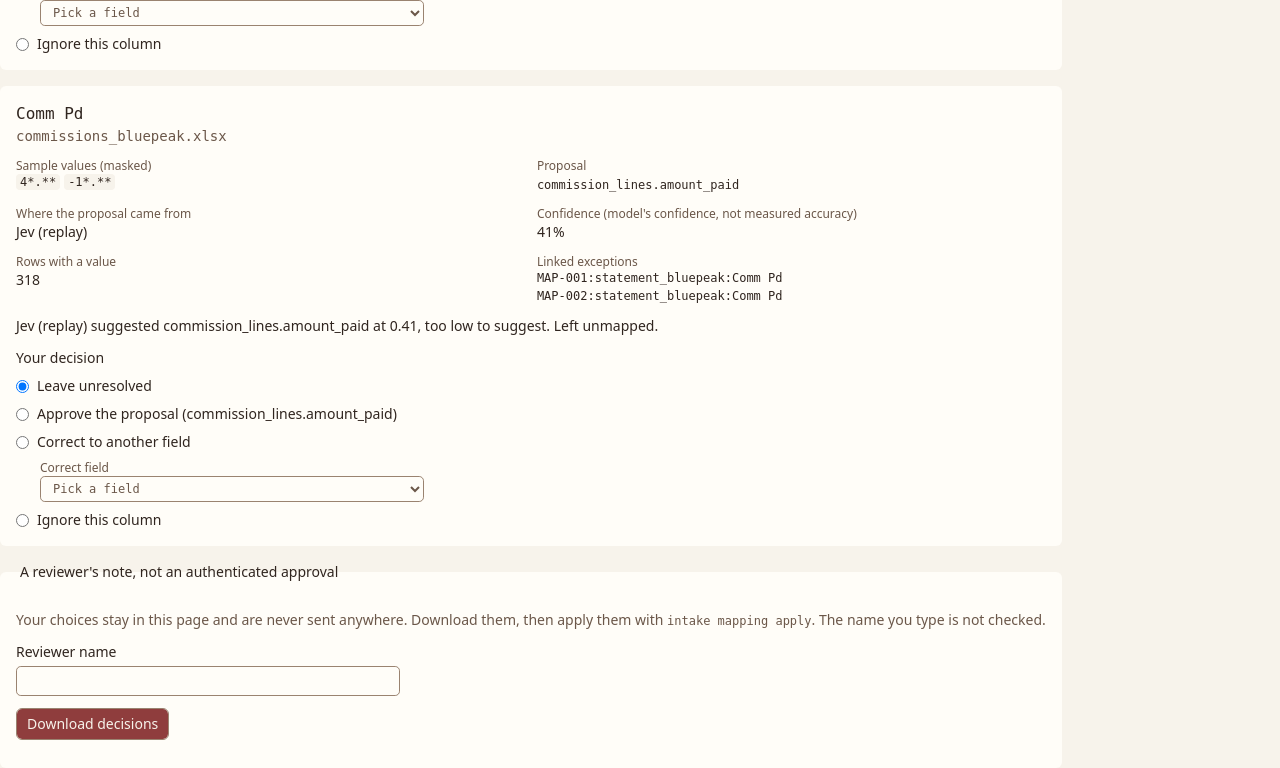
Test case: MappingReviewPanel › asks for at least one decision before downloading
The width and height of the screenshot is (1280, 768).
(page scrolled)
Type "Dana" into the field labelled "Reviewer name" at [208, 681], box [16,666,400,696]
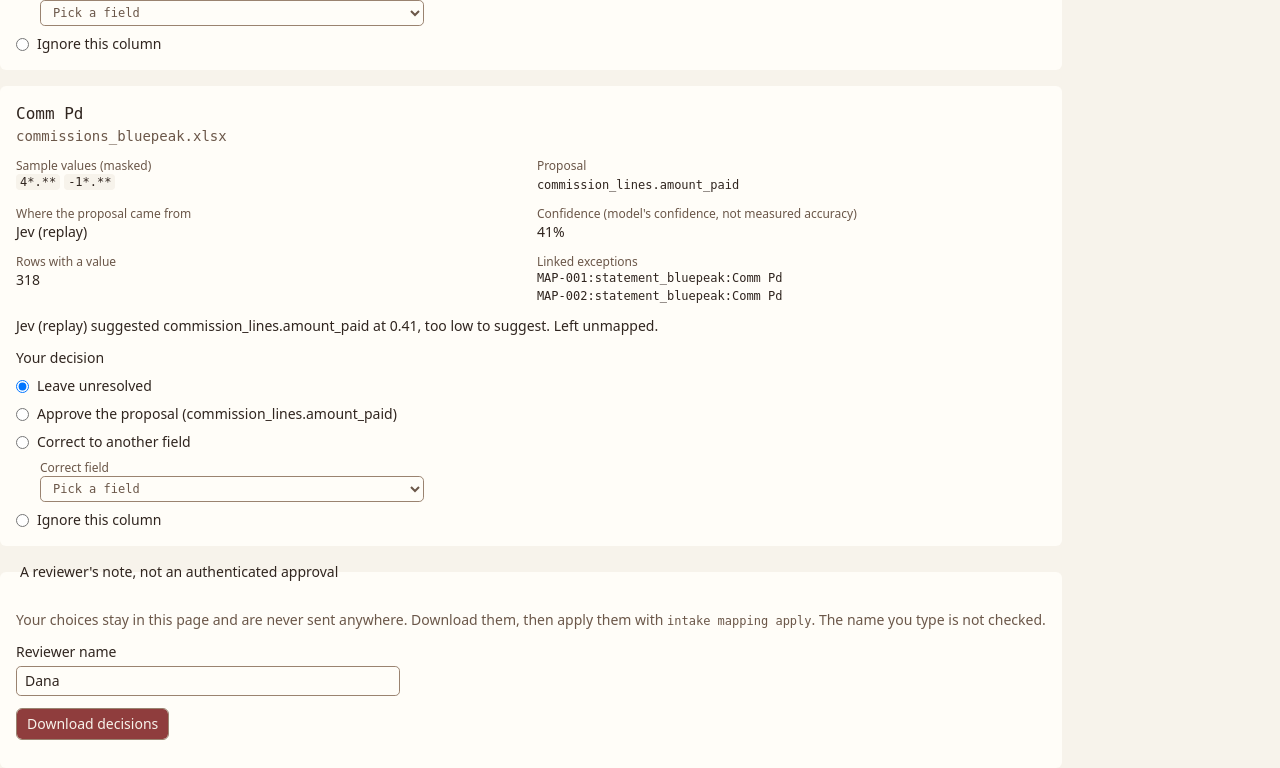
Click the button "Download decisions" at [93, 724], box [16,708,169,740]
(page scrolled)
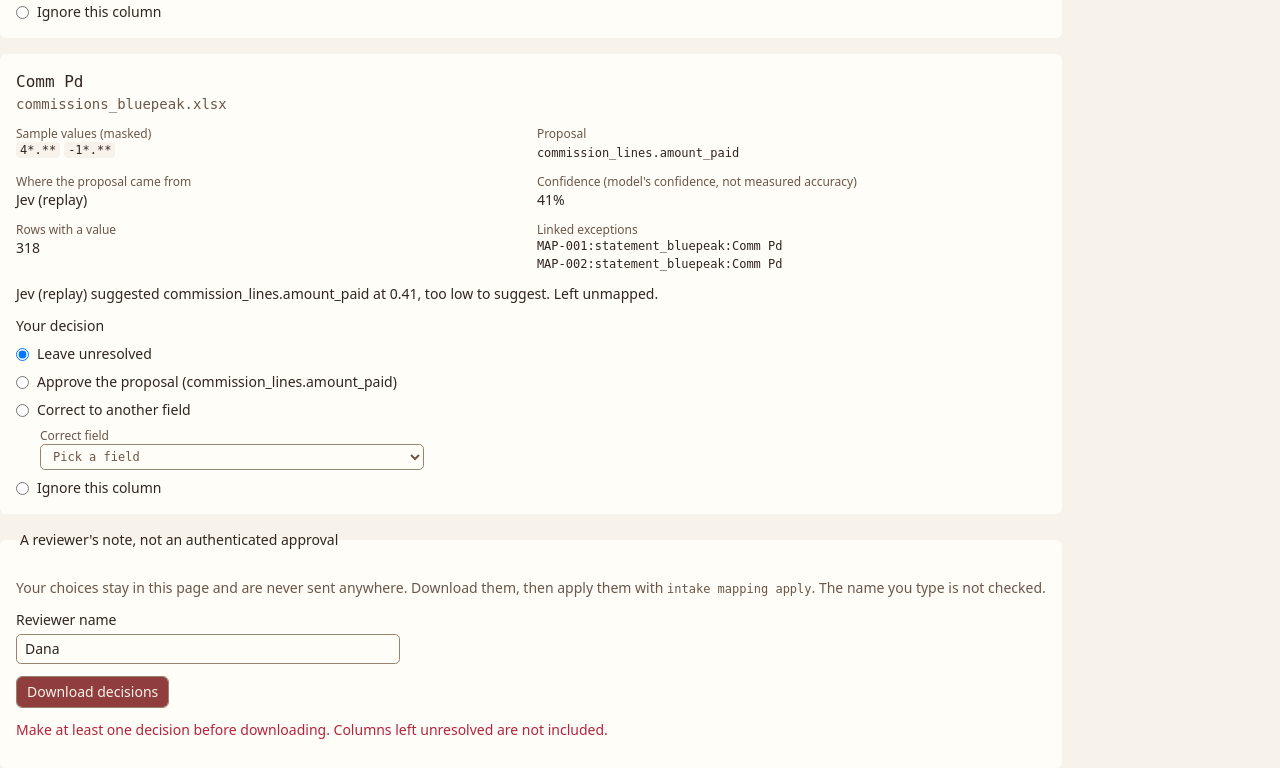
Check: the message shows "at least one decision", box [16,720,608,739]
